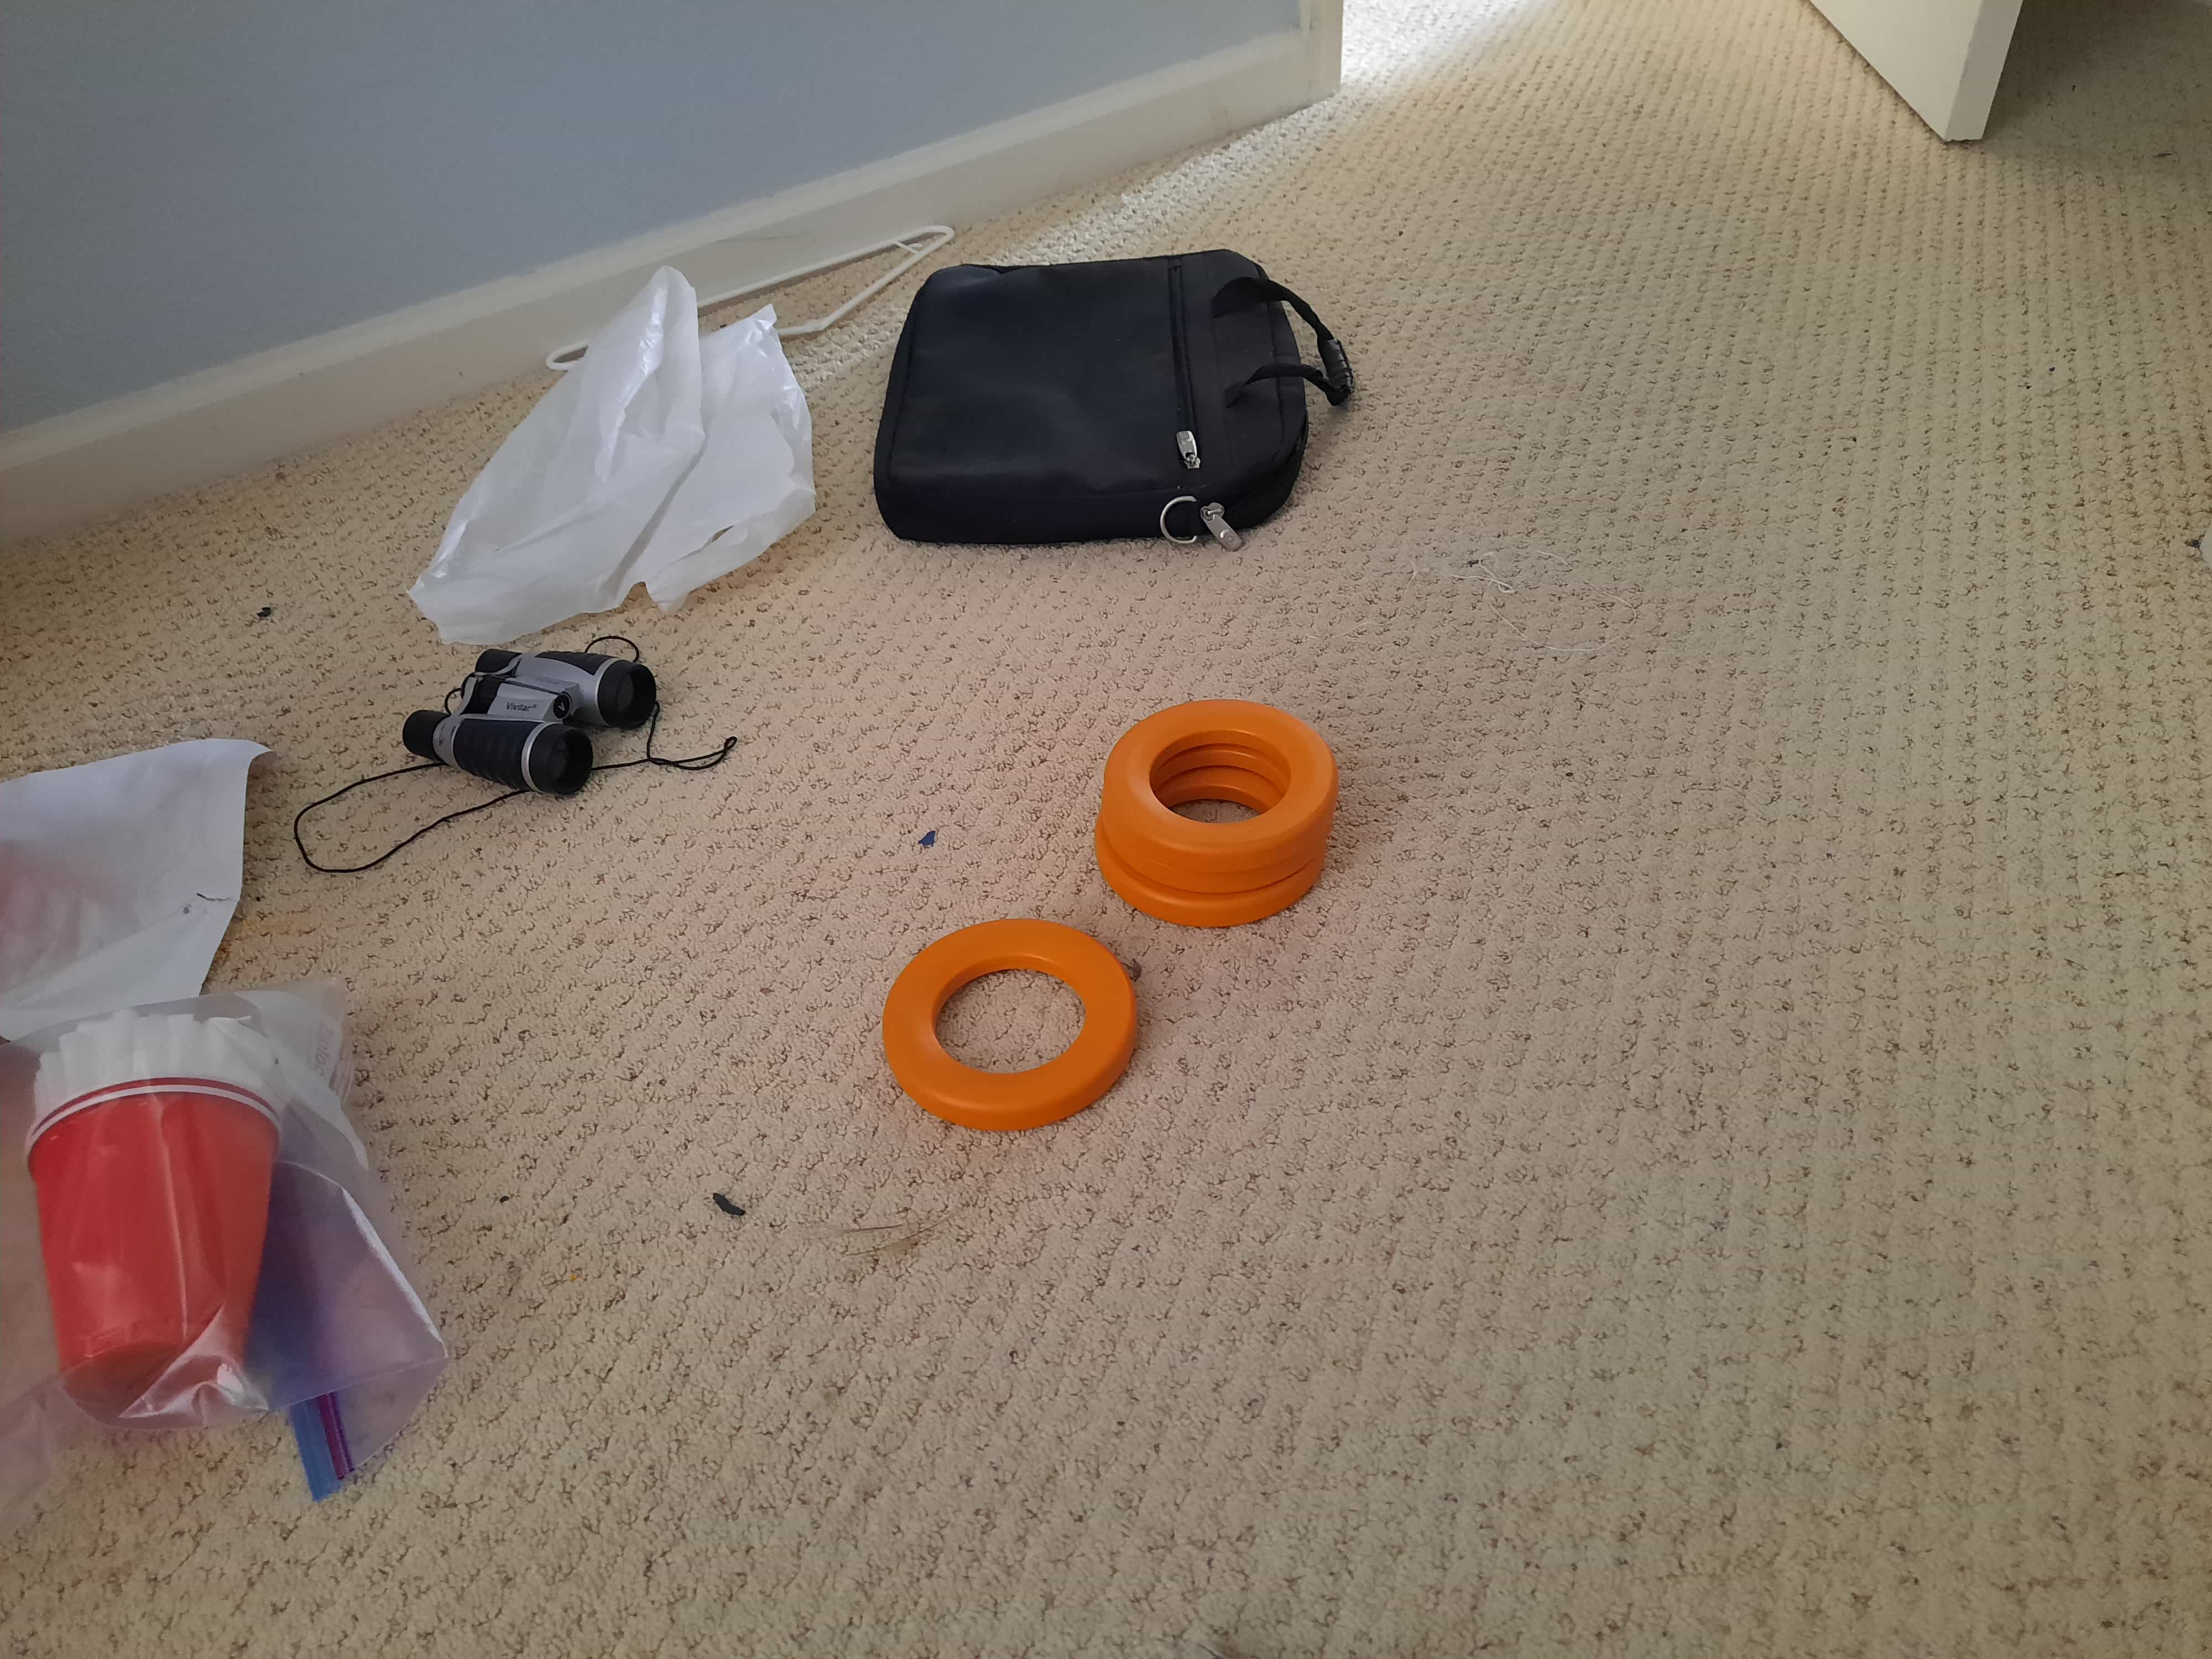FourStack: (1096, 699, 1332, 927)
OneStack: (883, 924, 1137, 1115)
